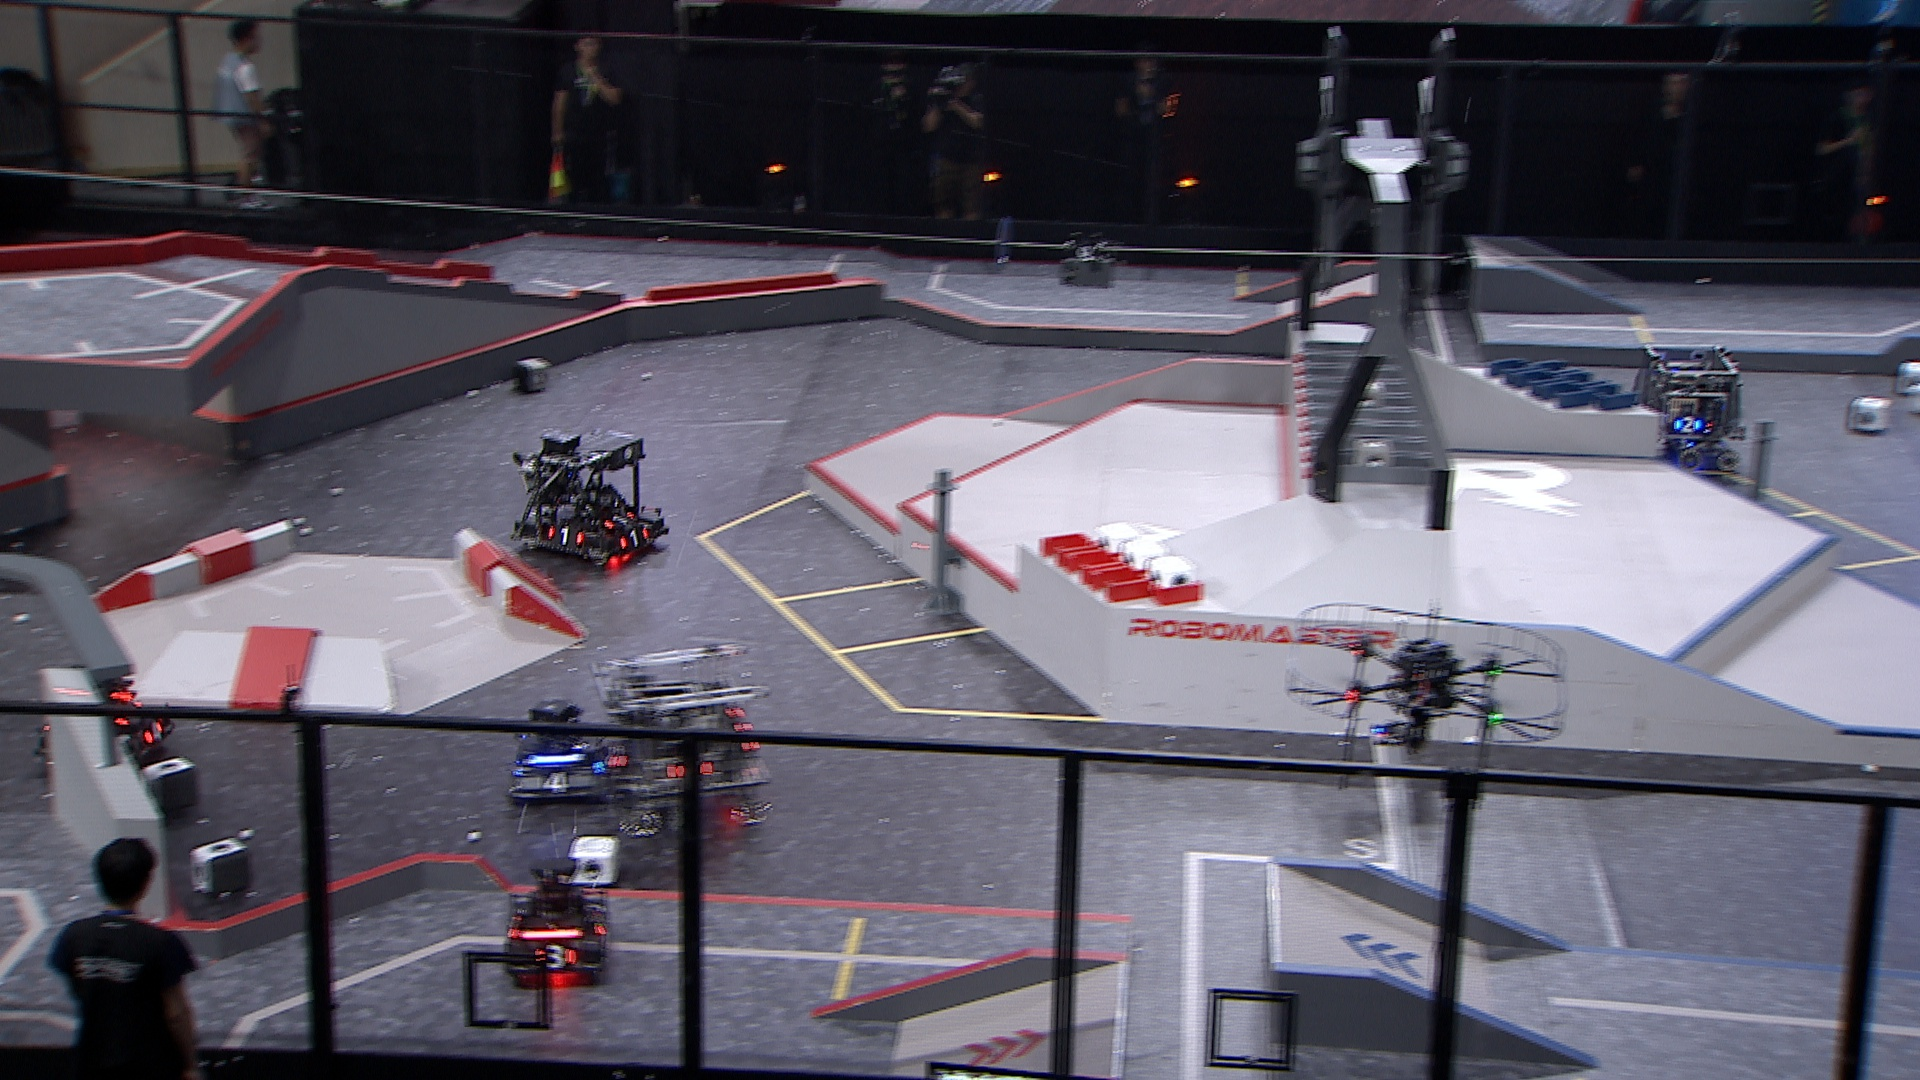armor: (531, 945, 578, 975), (533, 770, 575, 796), (542, 524, 584, 549), (599, 745, 624, 774), (1673, 415, 1706, 436), (142, 721, 167, 745), (621, 527, 647, 549), (603, 513, 636, 527)
car: (591, 642, 773, 840), (506, 427, 669, 567), (1623, 339, 1754, 472), (502, 855, 615, 986), (36, 666, 173, 770), (508, 698, 613, 804)
